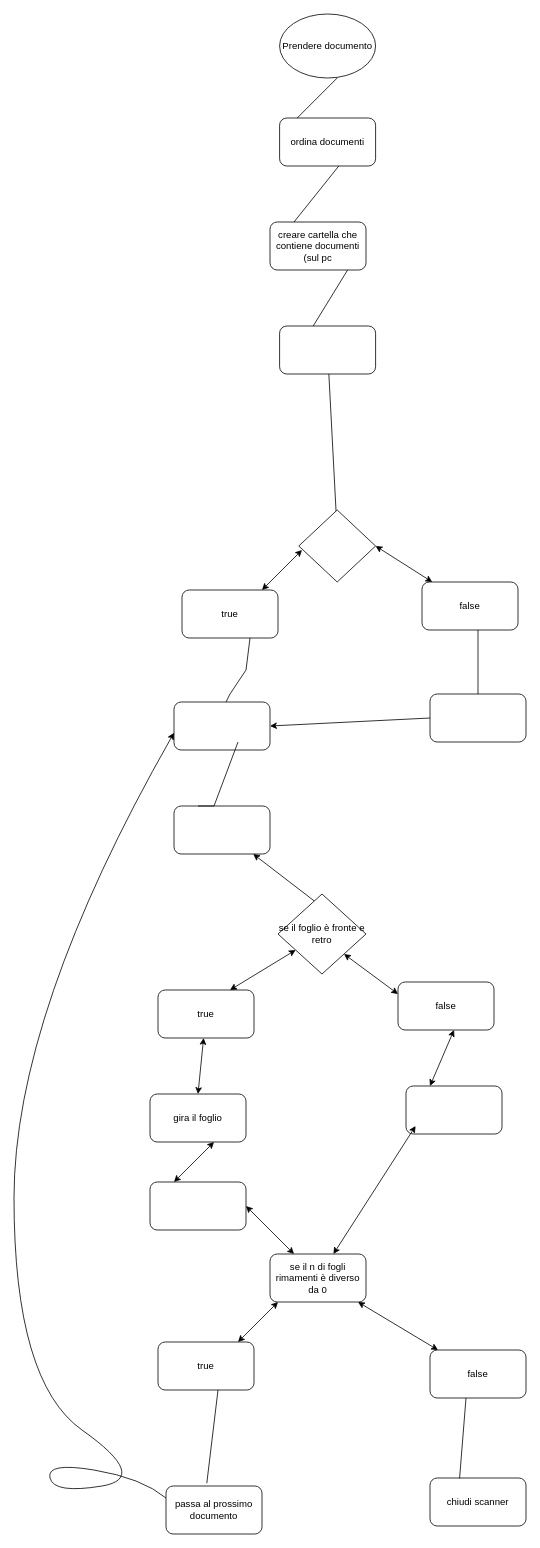
Image size: 540x1548. Some labels were removed from this diagram. Each missing label, with the centre of its shape:
accendi scanner: point (477, 717)
apri porta scanner: point (327, 349)
archiviare documento: point (453, 1109)
digitalizza documento: point (197, 1205)
If (Scanner = acceso): point (337, 545)
Inserire il foglio a faccia in giù nello scanner: point (221, 829)
scanner foglio: point (221, 725)
